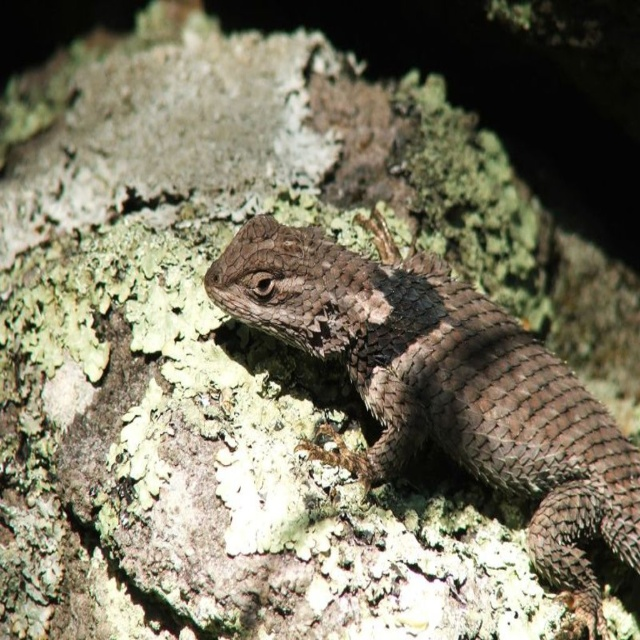Lizard: (204, 211, 640, 639)
